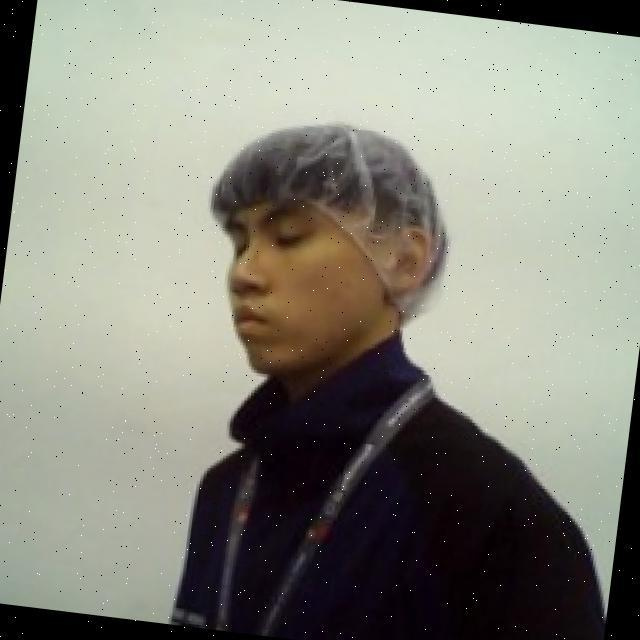gloves: (191, 104, 471, 327)
no_hairnet: (205, 208, 439, 402)
